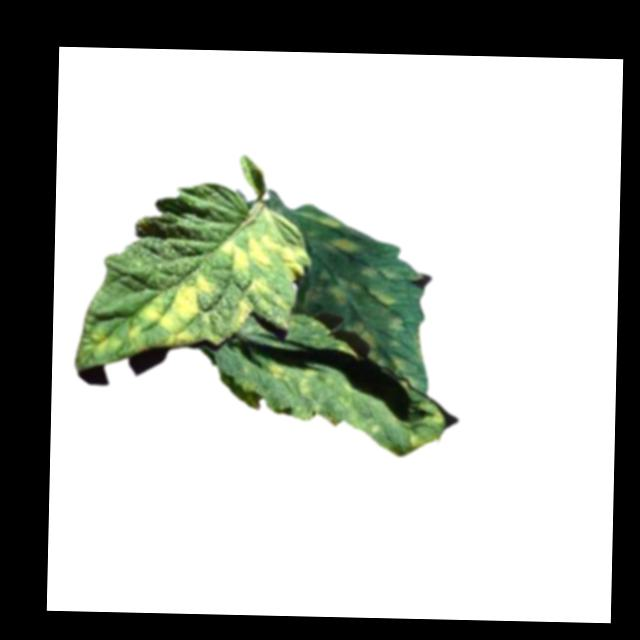Leaf_Mold: (126, 272, 217, 354), (218, 231, 309, 278), (234, 276, 273, 334), (340, 320, 382, 363), (329, 274, 361, 308), (324, 236, 360, 258), (366, 287, 396, 308), (266, 362, 285, 381), (408, 434, 426, 452)
